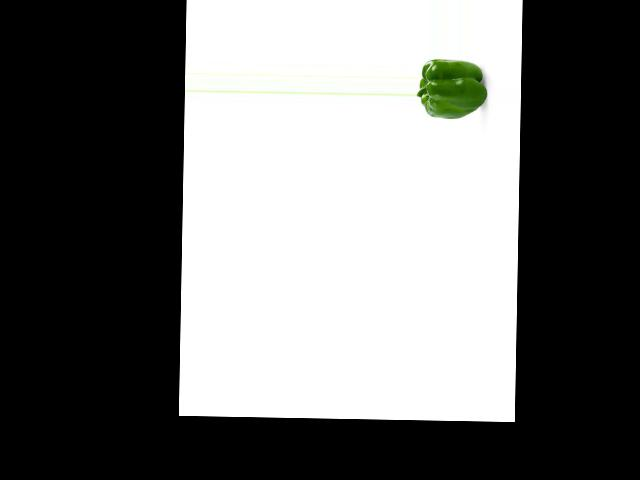bell_pepper: (417, 57, 485, 121)
